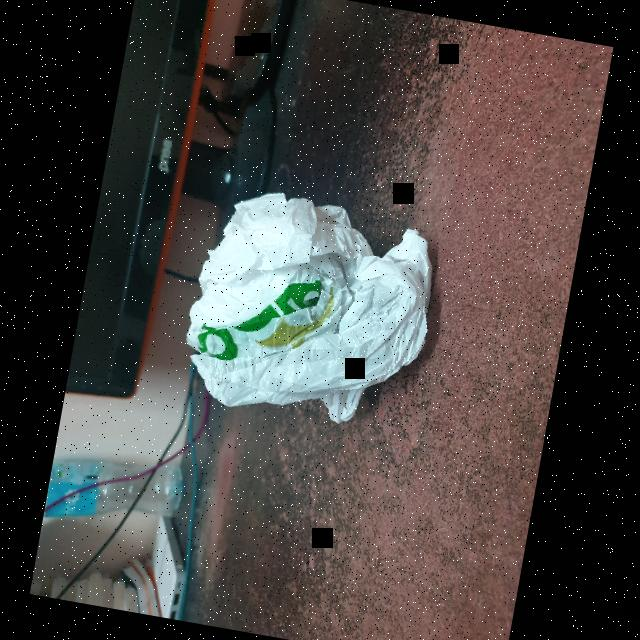plastic_bag: (164, 162, 460, 452)
